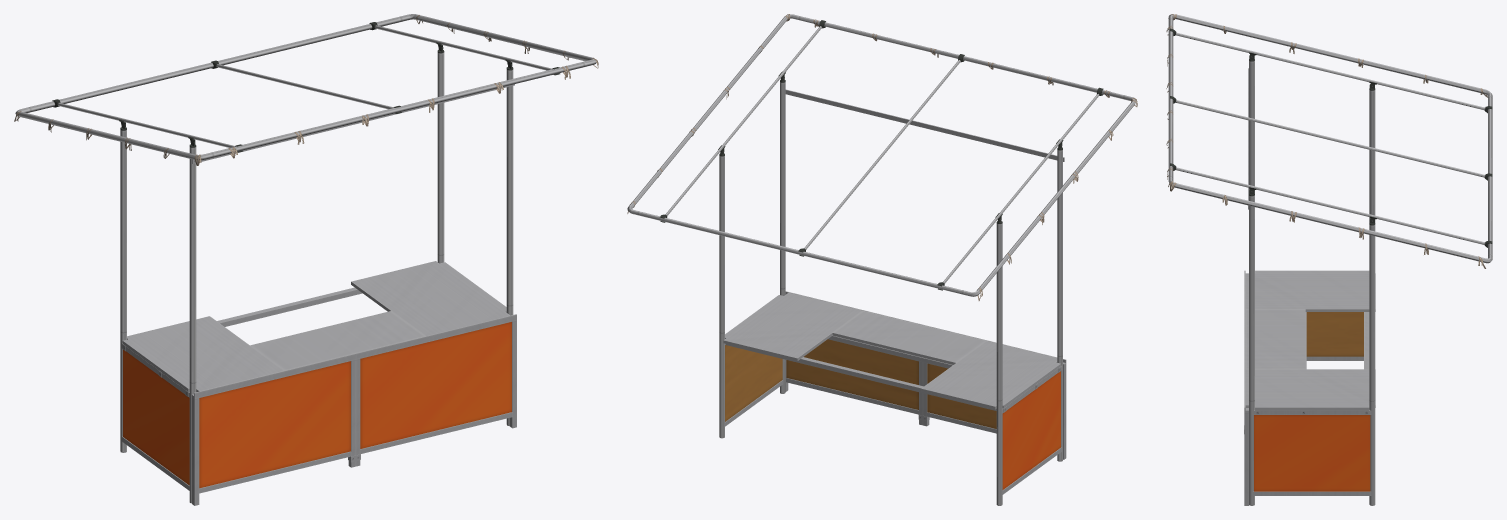
Rendered from jsf_4P_s02_c01_t04.fbx.
The picture shows the model from 3 angles, left to right: view 1: azimuth 30°, elevation 25°; view 2: azimuth 150°, elevation 25°; view 3: azimuth 270°, elevation 25°; orthographic projection. The views are drawn at different scales.
Visible parts, largest first — view 1: Base_s02_c01, Table_4P_s02_t04, Pillar4_s02, Rope_4P_s02; view 2: Base_s02_c01, Table_4P_s02_t04, Pillar4_s02, Rope_4P_s02; view 3: Pillar4_s02, Table_4P_s02_t04, Base_s02_c01, Rope_4P_s02.
Part boxes in pixels (box(x1,y1,x2,y2)): Base_s02_c01: box(121, 314, 516, 505); Table_4P_s02_t04: box(122, 261, 509, 396); Pillar4_s02: box(15, 14, 596, 503); Rope_4P_s02: box(14, 15, 598, 165); Base_s02_c01: box(725, 291, 1066, 494); Table_4P_s02_t04: box(723, 292, 1061, 412); Pillar4_s02: box(627, 14, 1136, 505); Rope_4P_s02: box(627, 14, 1137, 300); Pillar4_s02: box(1168, 14, 1492, 505); Table_4P_s02_t04: box(1245, 270, 1375, 414); Base_s02_c01: box(1244, 270, 1371, 505); Rope_4P_s02: box(1166, 14, 1487, 268).
Size of the model in its own units: 264 by 243 by 211.
